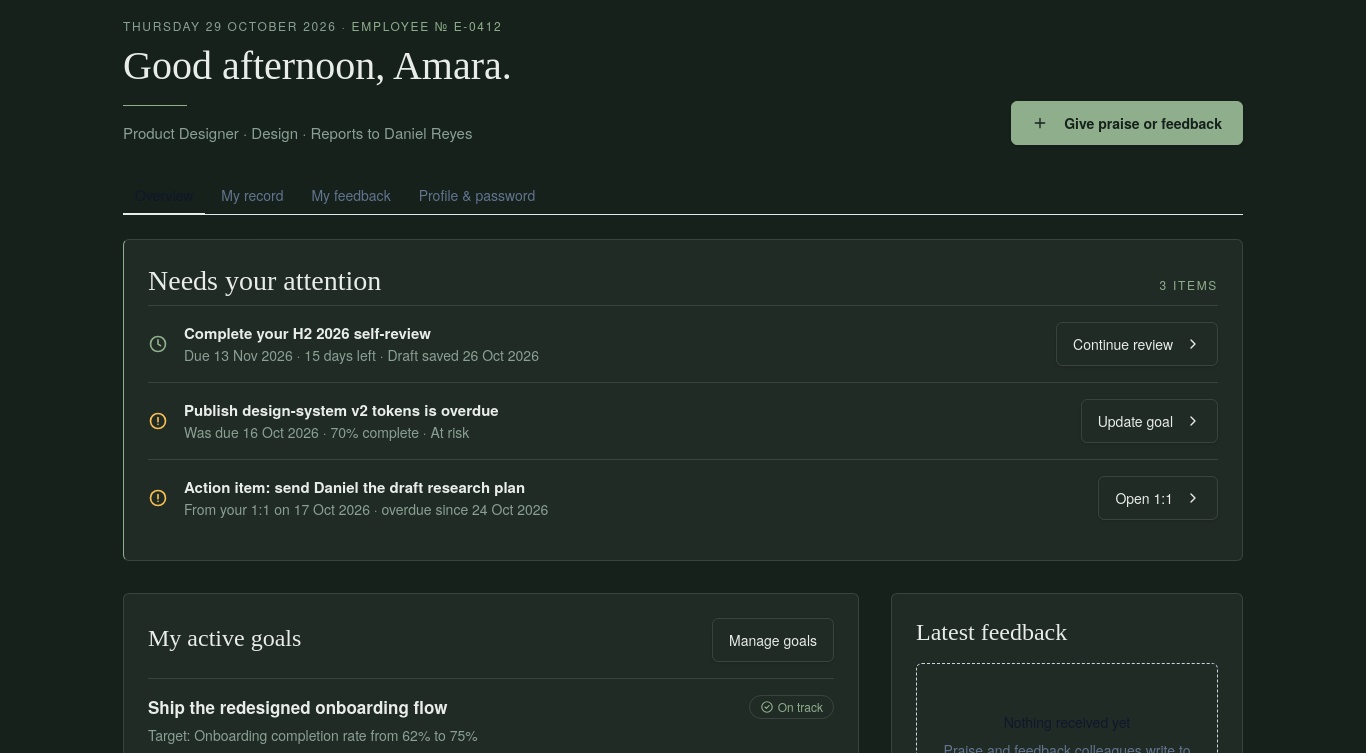
Praise composer › [AC-078] sends POST /feedback and confirms with the recipient's name, excluding me
Click the button "Give praise or feedback".
click(1127, 122)  # box top-left (1011, 100), bottom-right (1243, 144)
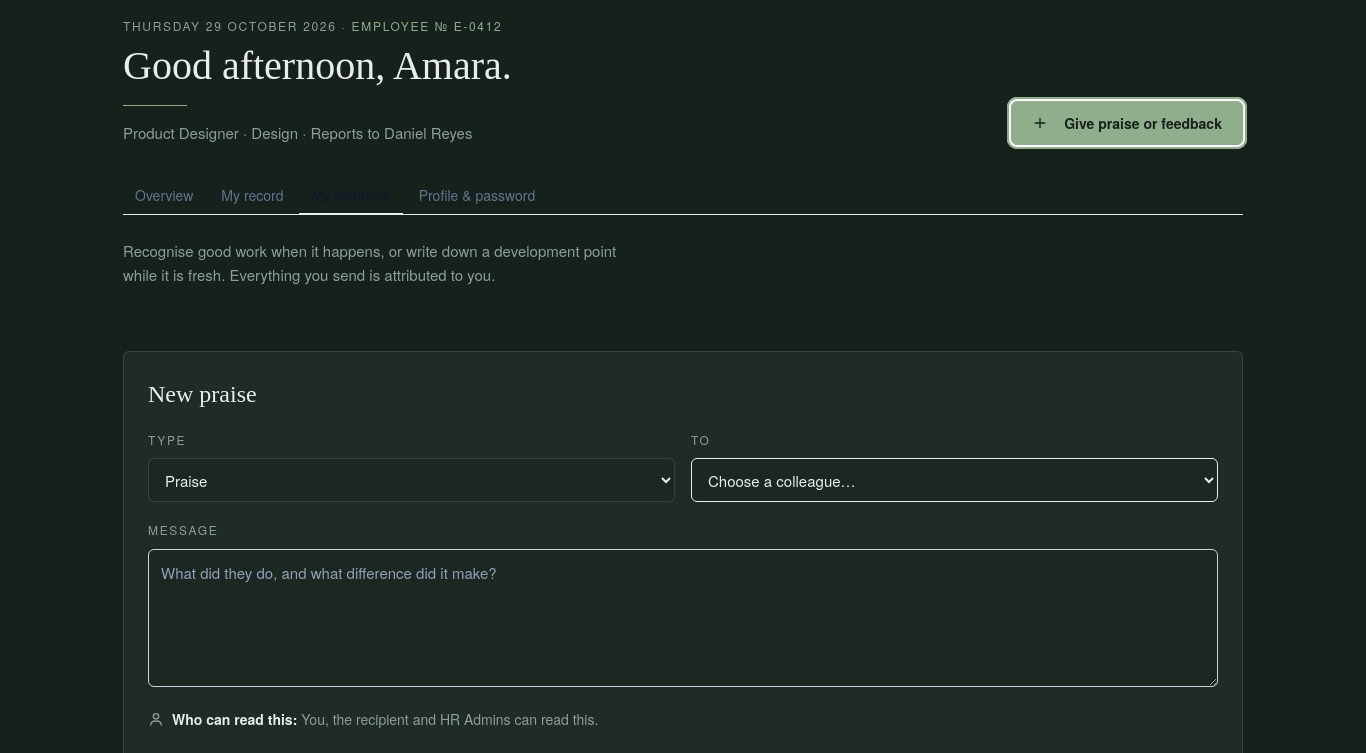
Select "Priya Nair — PM" in the dropdown with id "fb-to" at (954, 480), box top-left (691, 458), bottom-right (1218, 502)
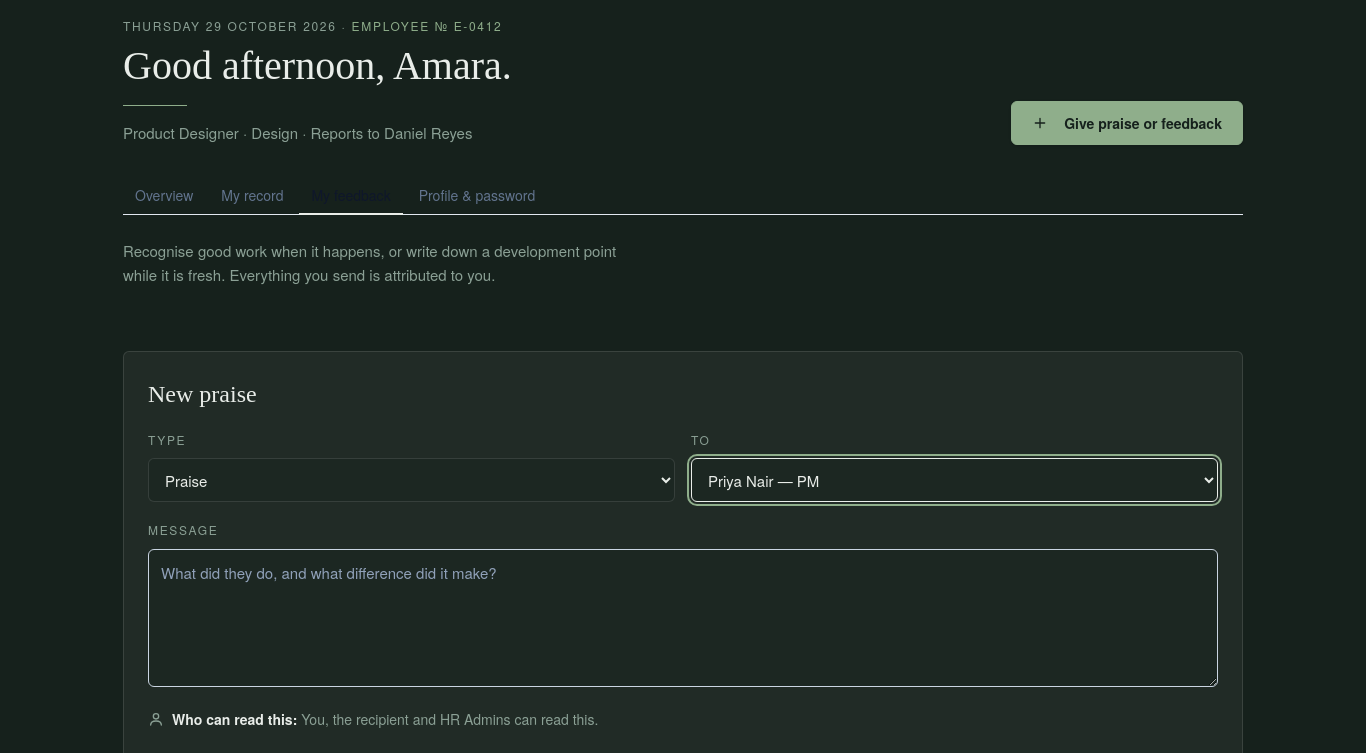
Type "Great work" into the text box labelled "Message".
click(683, 618); type("Great work")  # box top-left (148, 548), bottom-right (1218, 687)
(page scrolled)
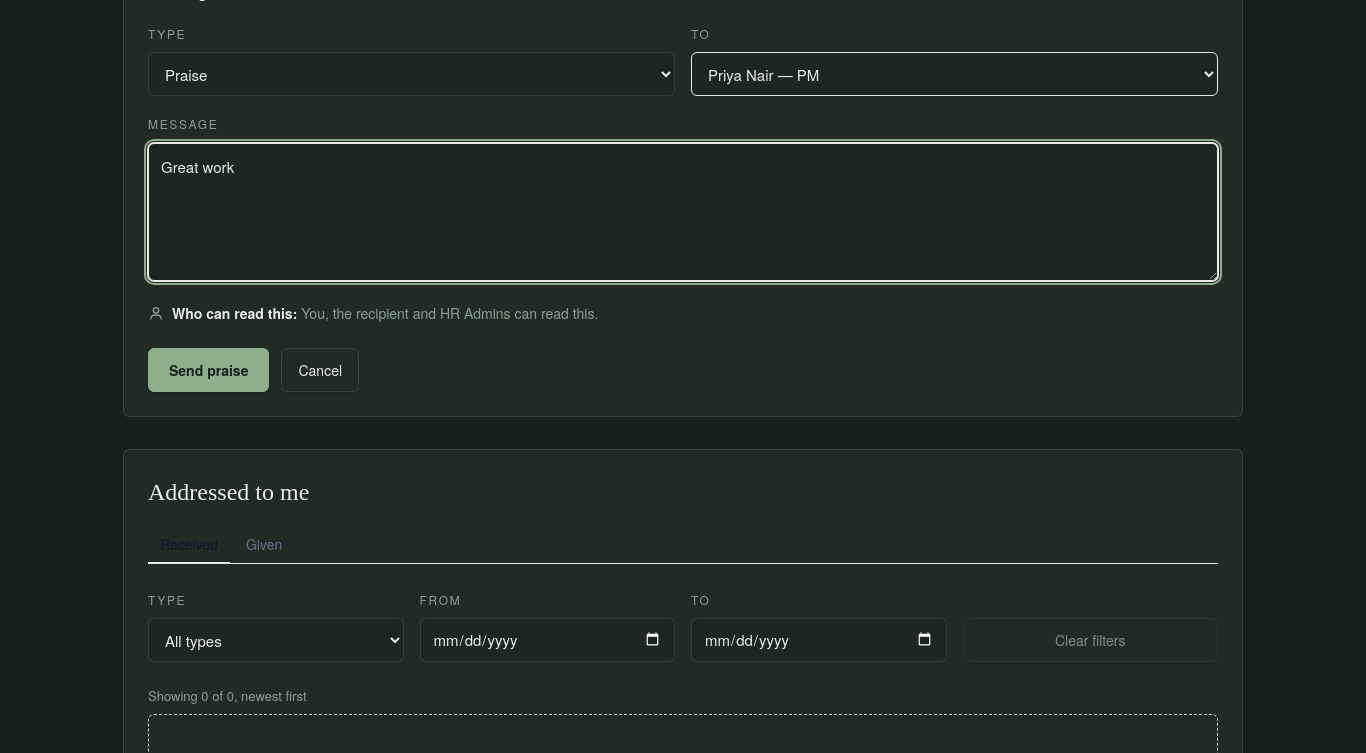
Click the button "Send praise".
click(209, 370)  # box top-left (148, 348), bottom-right (270, 392)
(page scrolled)
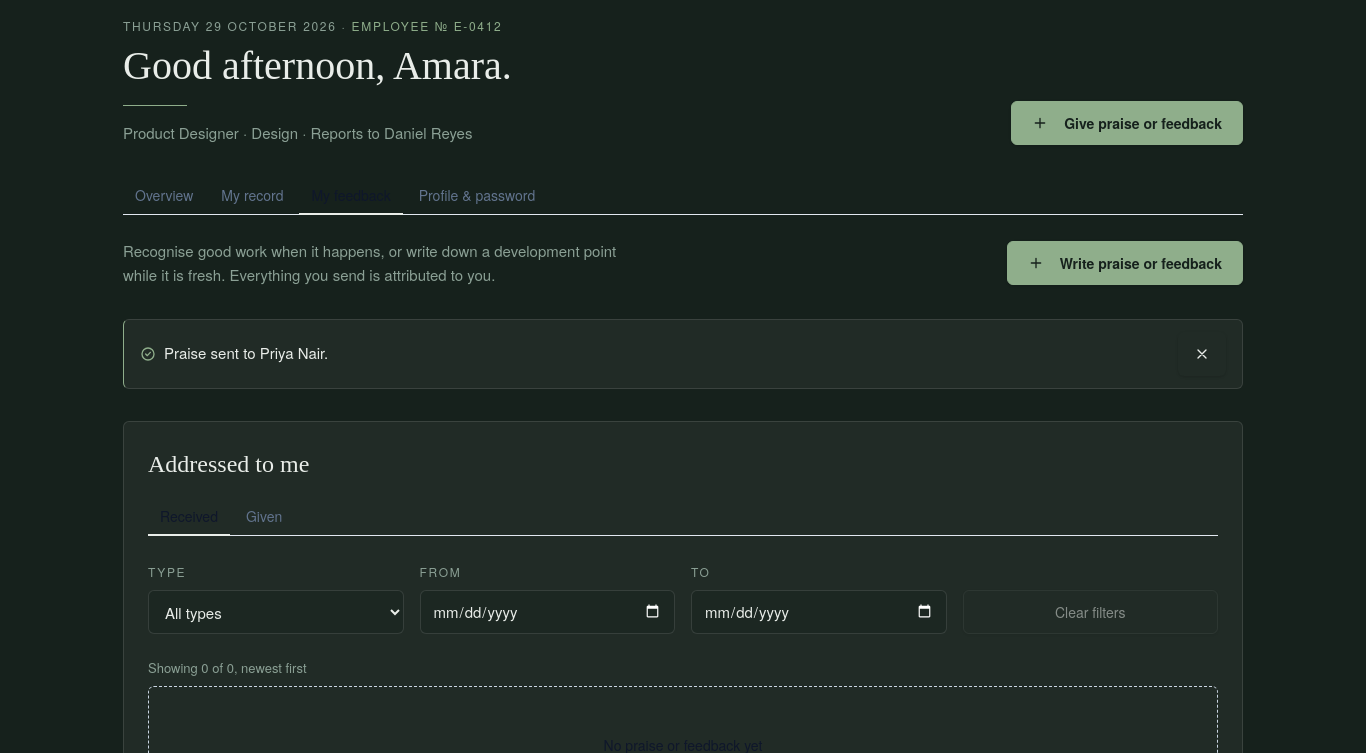
Check: the text "Praise sent to Priya Nair." is shown, box top-left (140, 342), bottom-right (328, 365)
